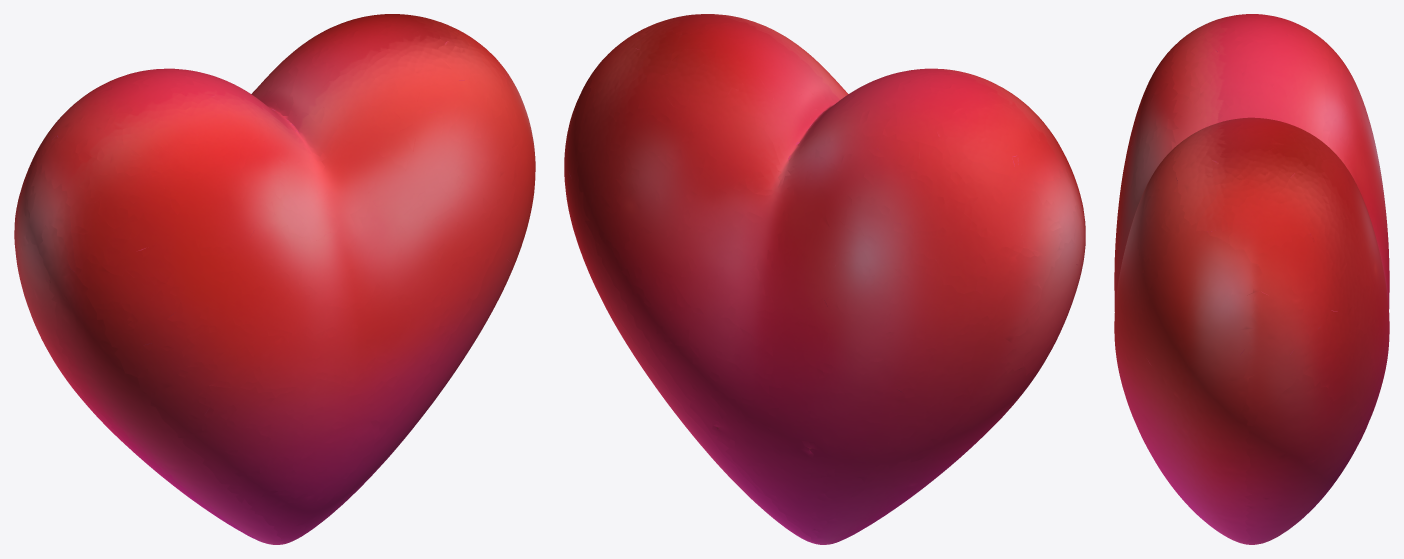
File: heart_glb.glb
The picture shows the model from 3 angles, left to right: view 1: azimuth 30°, elevation 25°; view 2: azimuth 150°, elevation 25°; view 3: azimuth 270°, elevation 25°; orthographic projection. The views are drawn at different scales.
Parts seen in each view (by area): view 1: geometry_0; view 2: geometry_0; view 3: geometry_0.
Part boxes in pixels (bbox=[...]): geometry_0: bbox=[14, 14, 535, 544]; geometry_0: bbox=[564, 14, 1085, 544]; geometry_0: bbox=[1114, 14, 1389, 544].
Size of the model in its own units: 0.1 by 0.0961 by 0.0517.
Materials: 1 (1 with a texture image).
